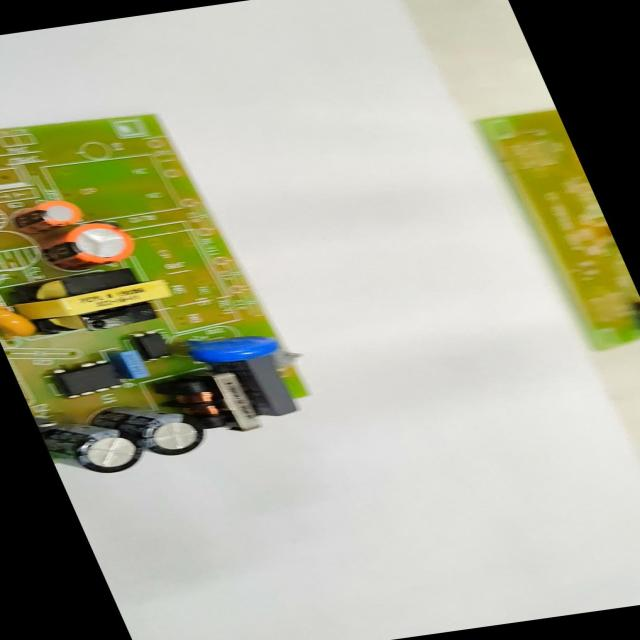Cap1: (21, 218, 147, 278)
Cap2: (6, 194, 94, 233)
Cap3: (80, 396, 218, 467)
Cap4: (36, 410, 154, 482)
MOSFET: (40, 357, 131, 402)
Mov: (180, 326, 291, 371)
Resistor: (266, 347, 307, 368)
Transformer: (1, 263, 186, 342), (161, 366, 278, 444)
